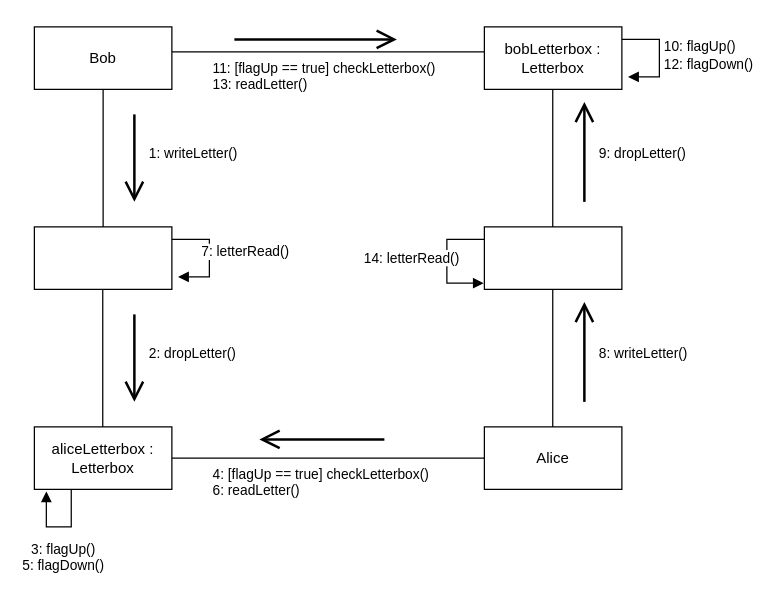
The diagram is 775 pixels wide and 594 high, and some of its shapes have lost their labels. Here are the shapes that lost their labels. From the top down, the box of each, then its label:
(33, 226, 172, 289): bobLetter : Letter
(483, 226, 622, 289): aliceLetter : Letter
